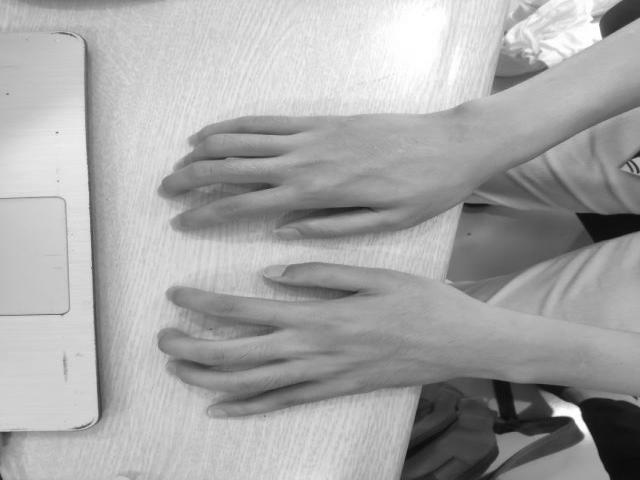not-gloved: (159, 261, 447, 419), (158, 111, 483, 241)
